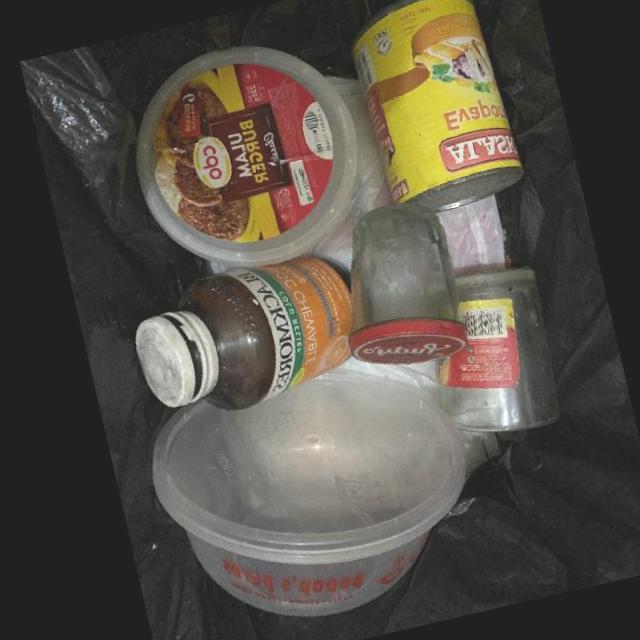chai_thuy_tinh: (134, 255, 353, 409), (435, 261, 560, 434), (348, 200, 468, 366)
hop_nhua: (151, 369, 465, 616), (135, 44, 359, 264)
nhom: (350, 0, 524, 209)
